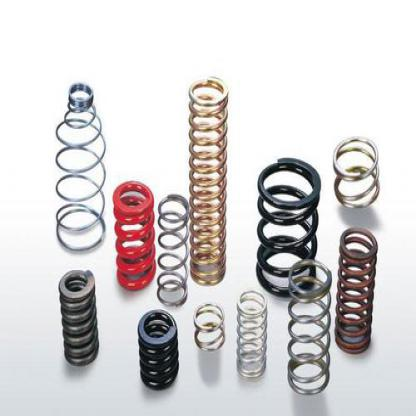FOD: (52, 78, 109, 255), (254, 155, 323, 299), (187, 75, 228, 288), (284, 254, 334, 404), (333, 225, 380, 358), (112, 178, 156, 295), (56, 265, 103, 372), (330, 125, 382, 216), (155, 192, 190, 308), (136, 304, 180, 395), (233, 287, 270, 382), (193, 297, 226, 357)
